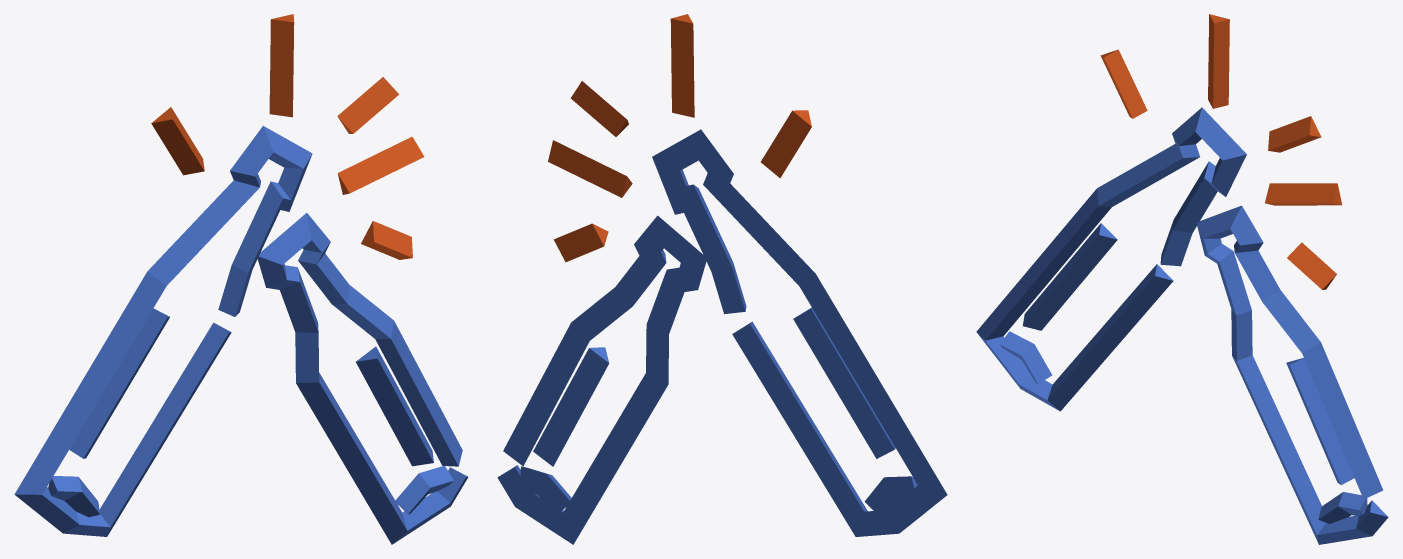
File: SM_neon_sign7.fbx
The picture shows the model from 3 angles, left to right: view 1: azimuth 30°, elevation 25°; view 2: azimuth 150°, elevation 25°; view 3: azimuth 330°, elevation 25°; orthographic projection. The views are drawn at different scales.
Parts seen in each view (by area): view 1: neon_sign7; view 2: neon_sign7; view 3: neon_sign7.
Boxes of the visible parts, <box> form: neon_sign7: <box>14,14,468,544</box>; neon_sign7: <box>497,14,947,544</box>; neon_sign7: <box>976,14,1388,544</box>.
Bounding box in the file's own units: 61.57 × 71.93 × 2.09.
